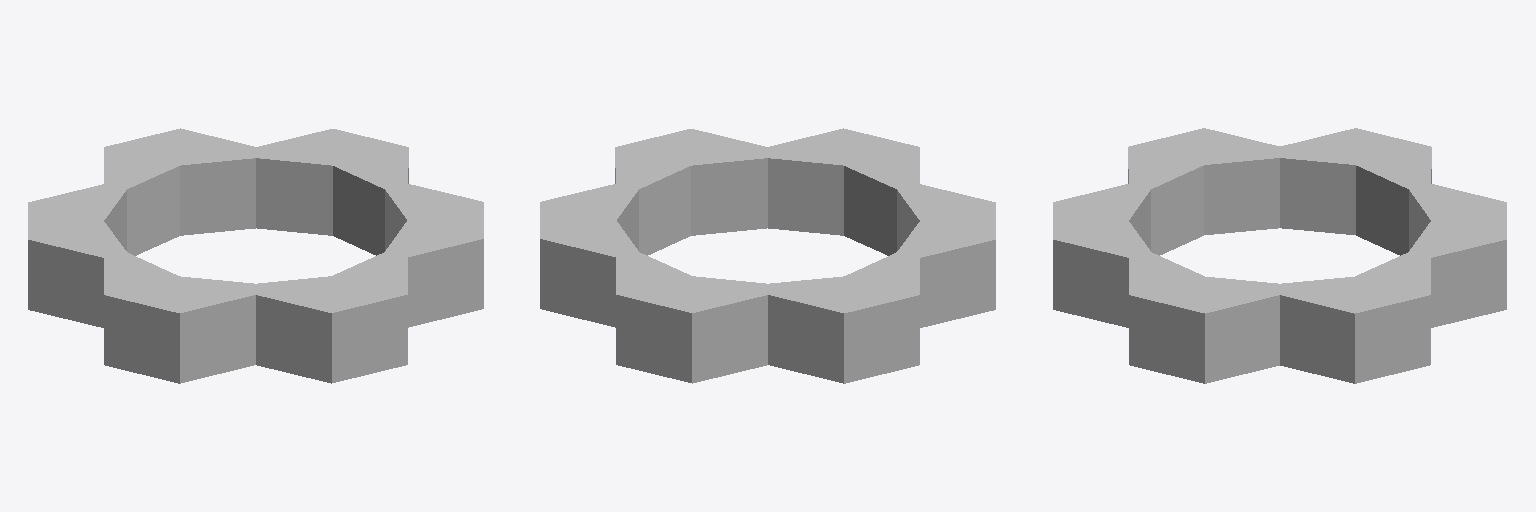
The model's file is RotatorChunk.obj.
3 views of the same model, side by side, from view 1: azimuth 30°, elevation 25°; view 2: azimuth 150°, elevation 25°; view 3: azimuth 270°, elevation 25° (orthographic).
Parts seen in each view (by area): view 1: pCylinder8; view 2: pCylinder8; view 3: pCylinder8.
Part boxes in pixels (bbox=[...]): pCylinder8: bbox=[28, 128, 483, 383]; pCylinder8: bbox=[540, 128, 995, 383]; pCylinder8: bbox=[1053, 128, 1506, 383].
Size of the model in its own units: 5 by 0.8828 by 5.17.